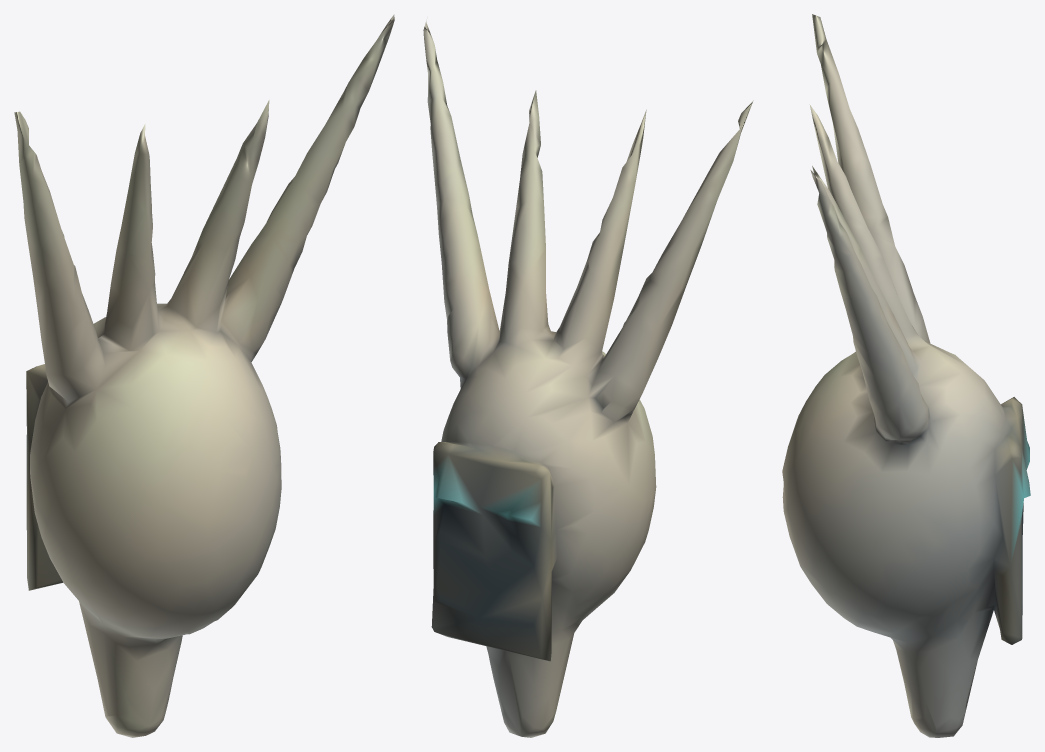
File: husk_skull.glb
The picture shows the model from 3 angles, left to right: view 1: azimuth 30°, elevation 25°; view 2: azimuth 150°, elevation 25°; view 3: azimuth 270°, elevation 25°; orthographic projection. The views are drawn at different scales.
Visible parts, largest first — view 1: geometry_0; view 2: geometry_0; view 3: geometry_0.
Part boxes in pixels (x1=…): geometry_0: x1=14, y1=14, x2=394, y2=737; geometry_0: x1=423, y1=21, x2=753, y2=737; geometry_0: x1=782, y1=14, x2=1030, y2=737.
Size of the model in its own units: 0.4228 by 0.785 by 0.2722.
